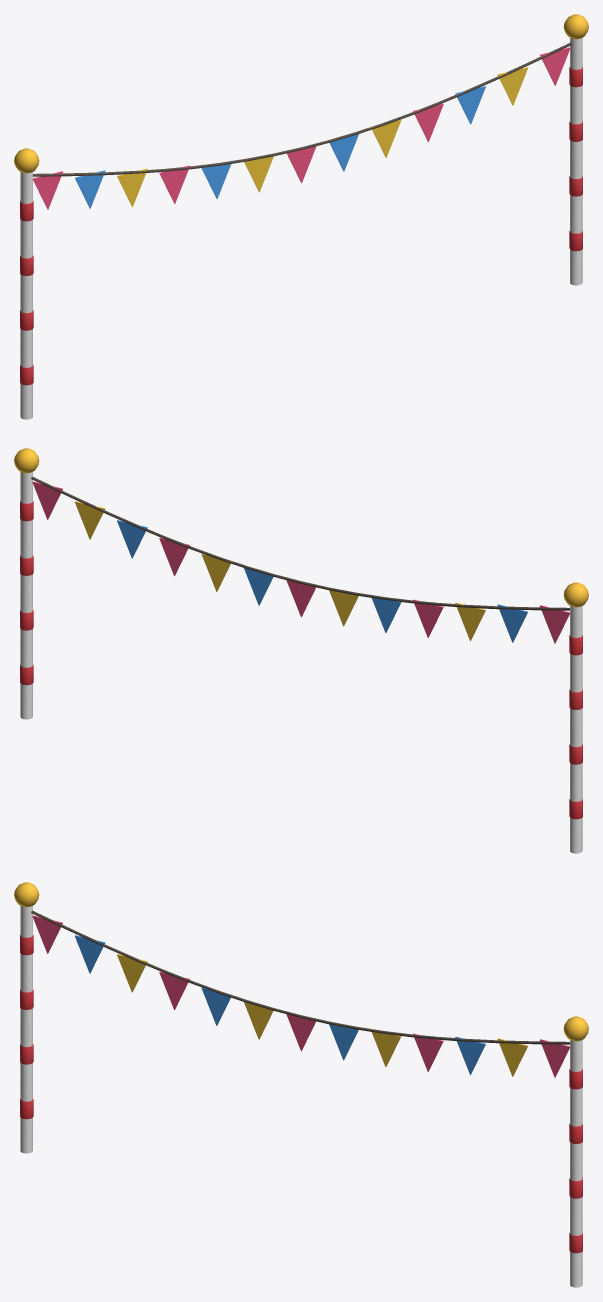
The model's file is RockinRacewayBunting.obj.
The picture shows the model from 3 angles, top to bottom: view 1: azimuth 30°, elevation 25°; view 2: azimuth 150°, elevation 25°; view 3: azimuth 330°, elevation 25°; orthographic projection.
Parts seen in each view (by area): view 1: Pole, FlagA, FlagC, FlagB, Stripes, String, Top; view 2: Pole, FlagA, FlagC, FlagB, Stripes, String, Top; view 3: Pole, FlagA, FlagB, FlagC, Stripes, String, Top.
Boxes of the visible parts, x1,y1,x2,y2 form: Pole: (20,38,582,419); FlagA: (33,47,570,209); FlagC: (117,67,527,206); FlagB: (75,86,485,208); Stripes: (20,67,582,385); String: (33,42,571,176); Top: (14,14,588,173); Pole: (20,472,582,853); FlagA: (32,481,569,643); FlagC: (75,501,485,640); FlagB: (117,520,527,642); Stripes: (20,501,582,819); String: (31,476,569,610); Top: (14,448,588,607); Pole: (20,906,582,1287); FlagA: (32,915,569,1077); FlagB: (75,935,485,1074); FlagC: (117,954,527,1076); Stripes: (20,935,582,1253); String: (31,910,569,1044); Top: (14,882,588,1041).
Size of the model in its own units: 20.8 by 9.3 by 0.8.
